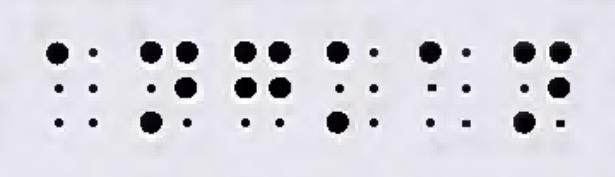a: (44, 41, 100, 129), (420, 41, 472, 128)
g: (234, 41, 292, 128)
k: (326, 41, 378, 134)
n: (514, 41, 572, 135), (141, 41, 198, 134)
